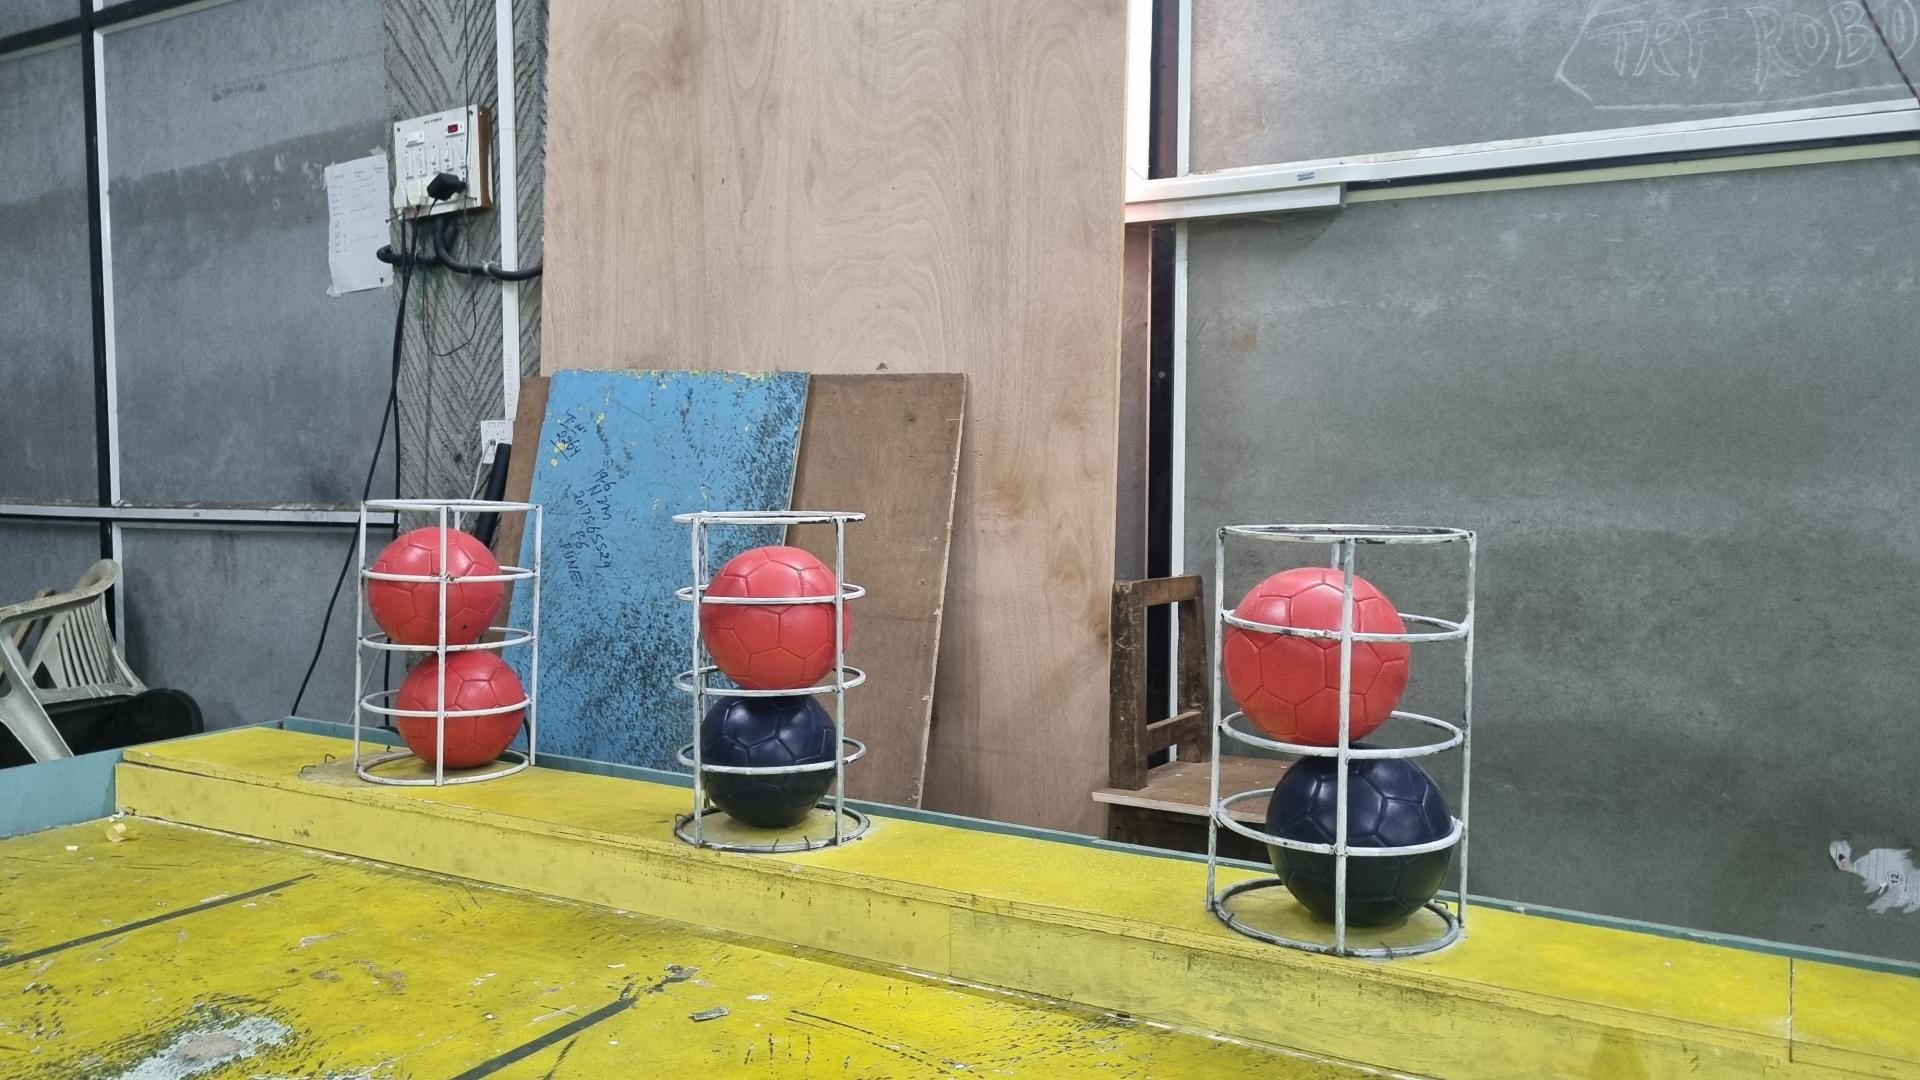dhoka: (1265, 756, 1456, 927), (700, 695, 836, 829)
laale: (1222, 568, 1414, 748), (700, 546, 851, 692), (367, 526, 506, 649), (394, 651, 525, 771)
